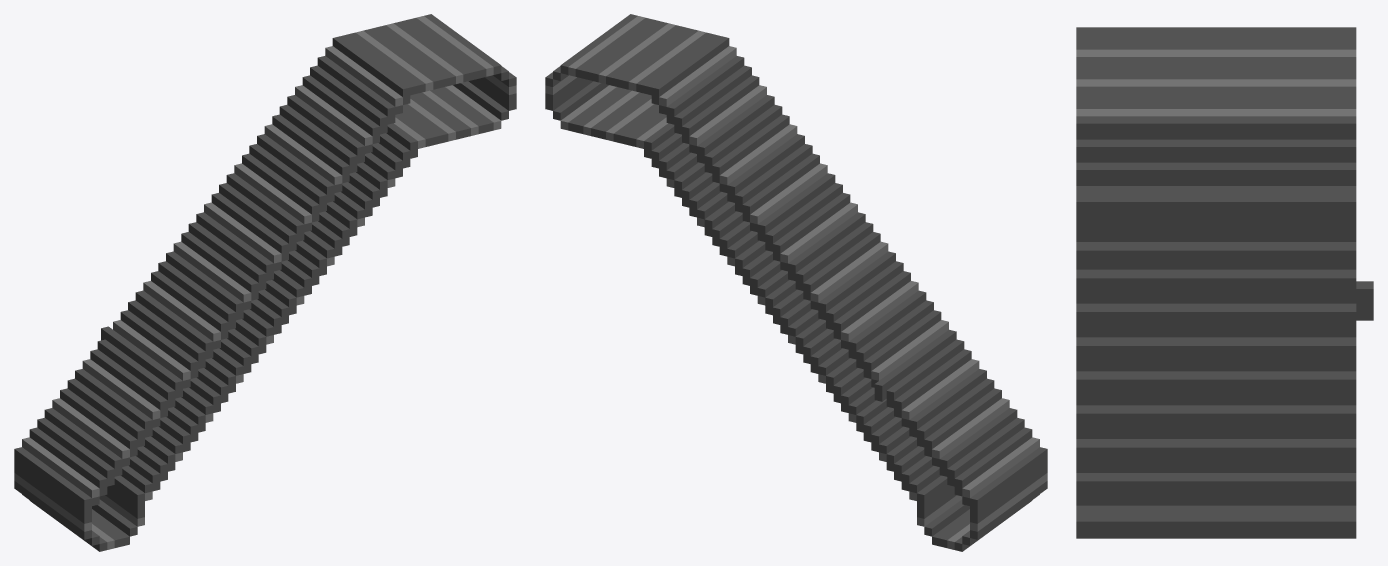
File: конвеер новый.obj
3 renders of one model, left to right at view 1: azimuth 30°, elevation 25°; view 2: azimuth 150°, elevation 25°; view 3: azimuth 270°, elevation 25°, orthographic. The views are drawn at different scales.
Bounding box in the file's own units: 5.7 × 4.9 × 1.7.
1 material, 1 textured.
